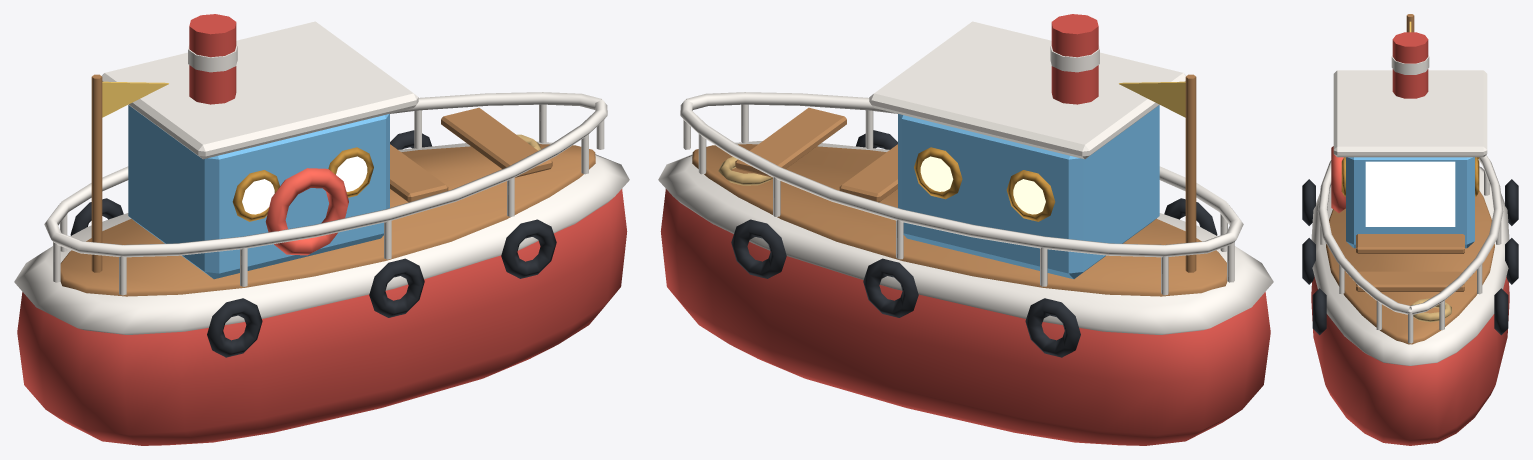
The model's file is barco.glb.
The picture shows the model from 3 angles, left to right: view 1: azimuth 30°, elevation 25°; view 2: azimuth 150°, elevation 25°; view 3: azimuth 270°, elevation 25°; orthographic projection. The views are drawn at different scales.
Visible parts, largest first — view 1: barco; view 2: barco; view 3: barco.
Boxes of the visible parts, x1,y1,x2,y2 form: barco: (14,14,629,445); barco: (658,14,1273,445); barco: (1302,14,1518,445).
Bounding box in the file's own units: 5.05 × 3.15 × 2.18.
